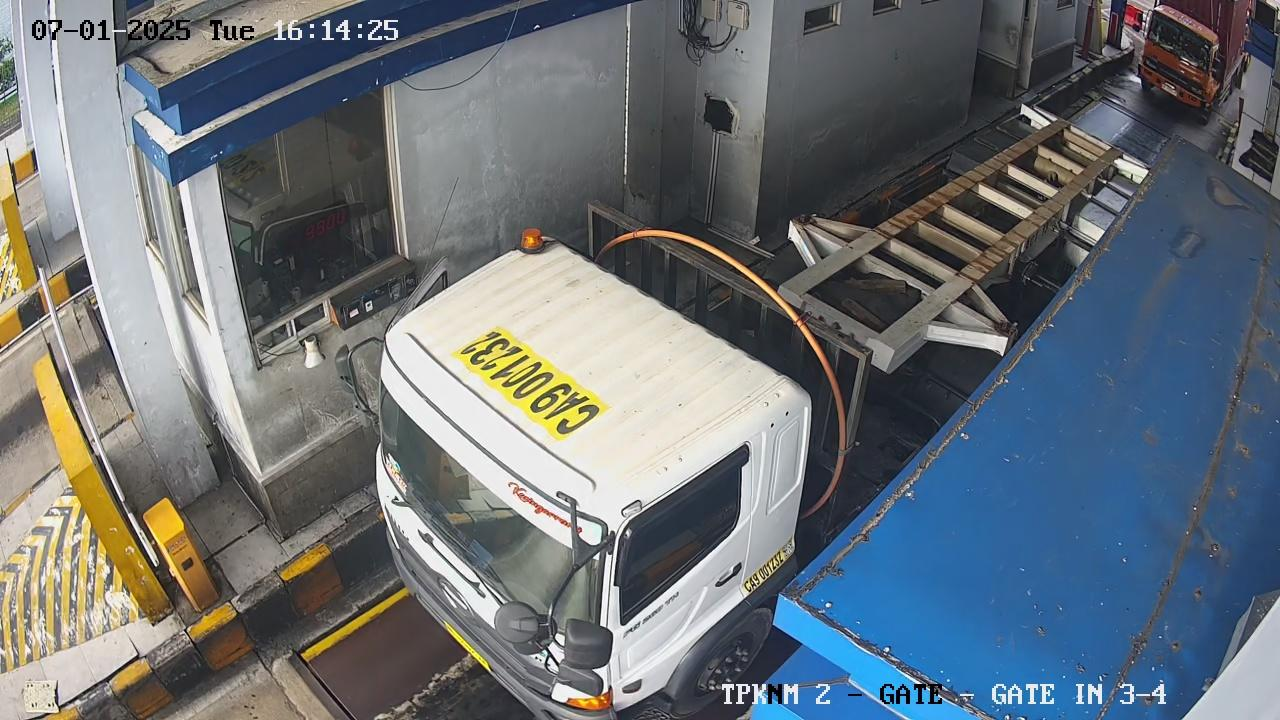truck_id: (436, 301, 623, 461), (734, 538, 796, 602)
